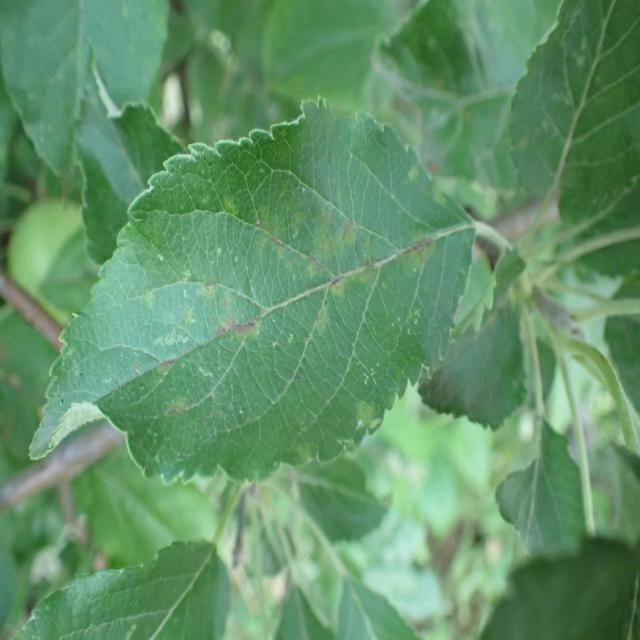scab: (100, 188, 463, 439)
